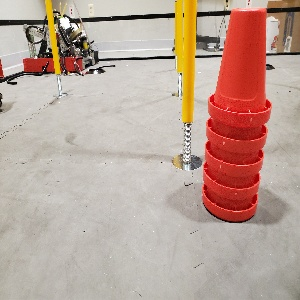Red_5: (197, 4, 274, 226)
